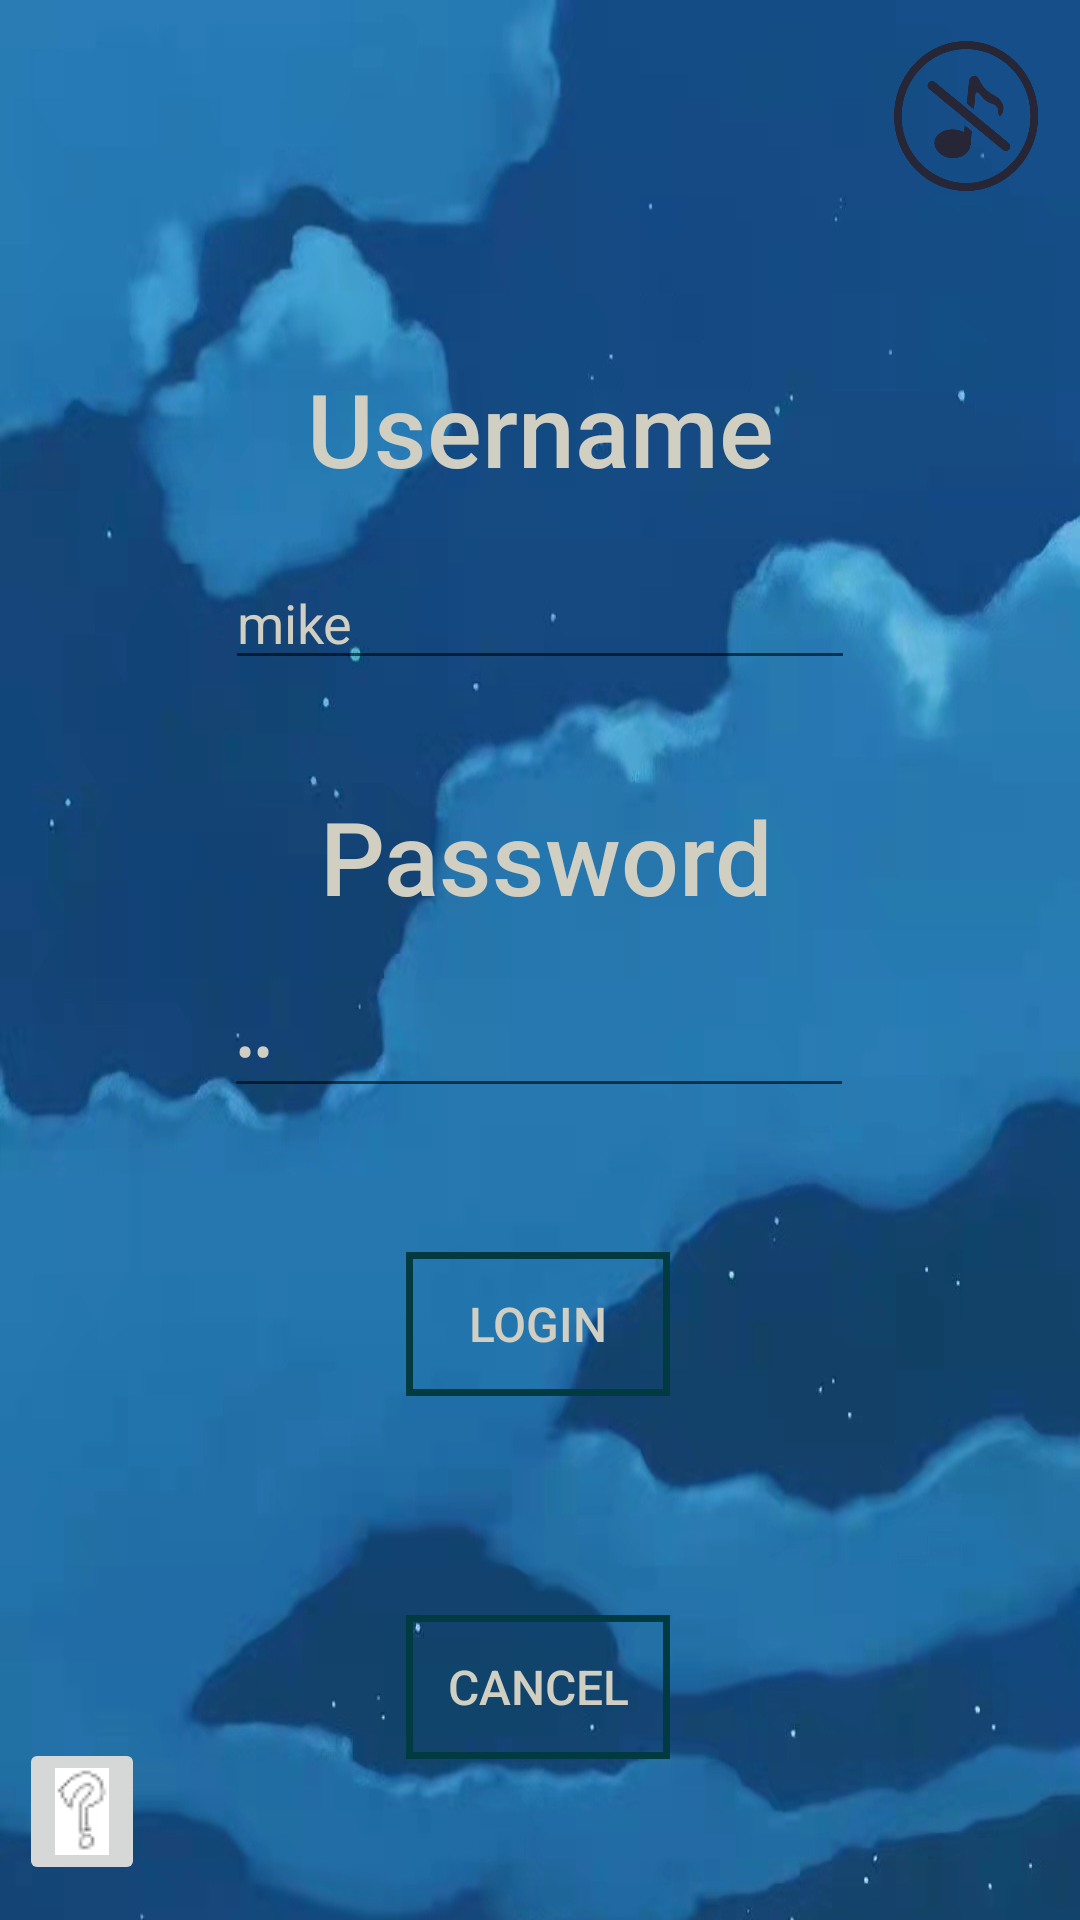

Named icons in this screenshot (1080px×1920px) and their centers, point (x, y):
questionmark: point (82, 1811)
